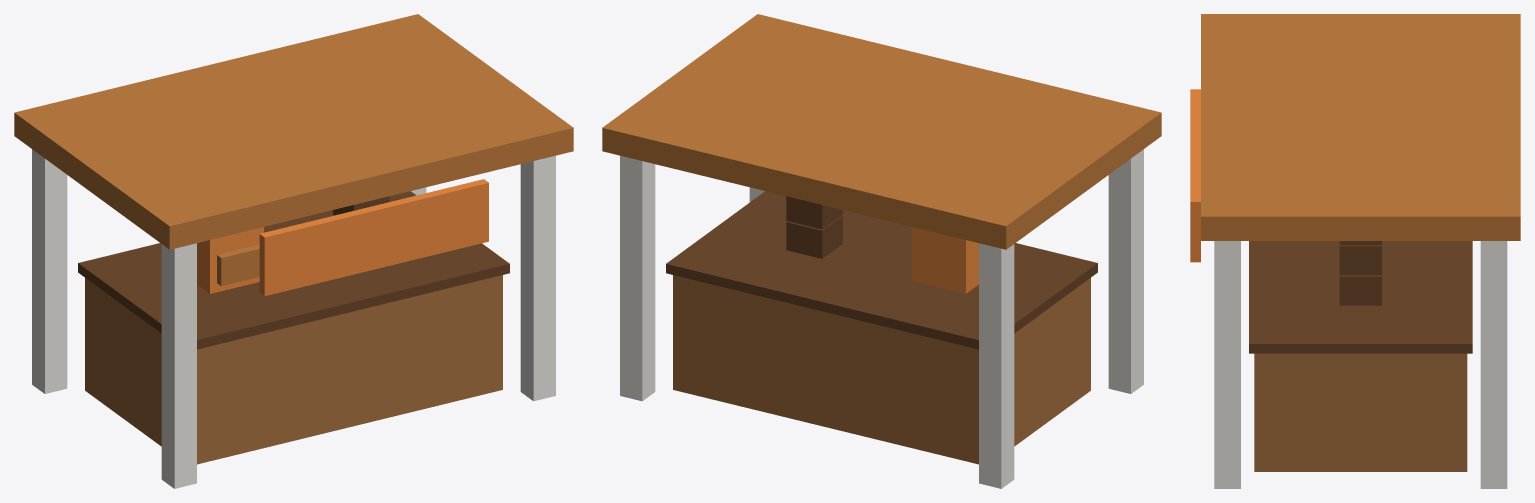
File: mdl_estacion_carga.fbx
3 views of the same model, side by side, from view 1: azimuth 30°, elevation 25°; view 2: azimuth 150°, elevation 25°; view 3: azimuth 270°, elevation 25° (orthographic). The views are drawn at different scales.
Parts seen in each view (by area): view 1: mdl_estacion_carga; view 2: mdl_estacion_carga; view 3: mdl_estacion_carga.
Boxes of the visible parts, x1,y1,x2,y2 form: mdl_estacion_carga: (14,14,573,488); mdl_estacion_carga: (602,14,1161,488); mdl_estacion_carga: (1190,14,1520,488).
Bounding box in the file's own units: 1800 × 1150 × 1240.
